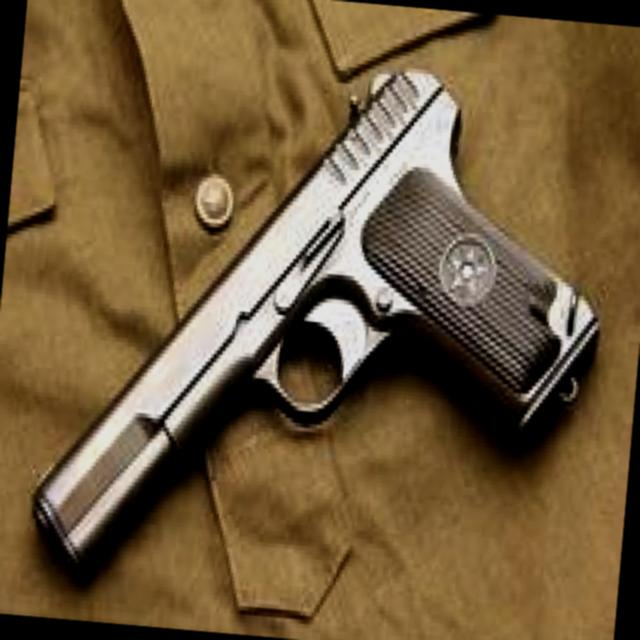semi automatic: (22, 27, 628, 640)
